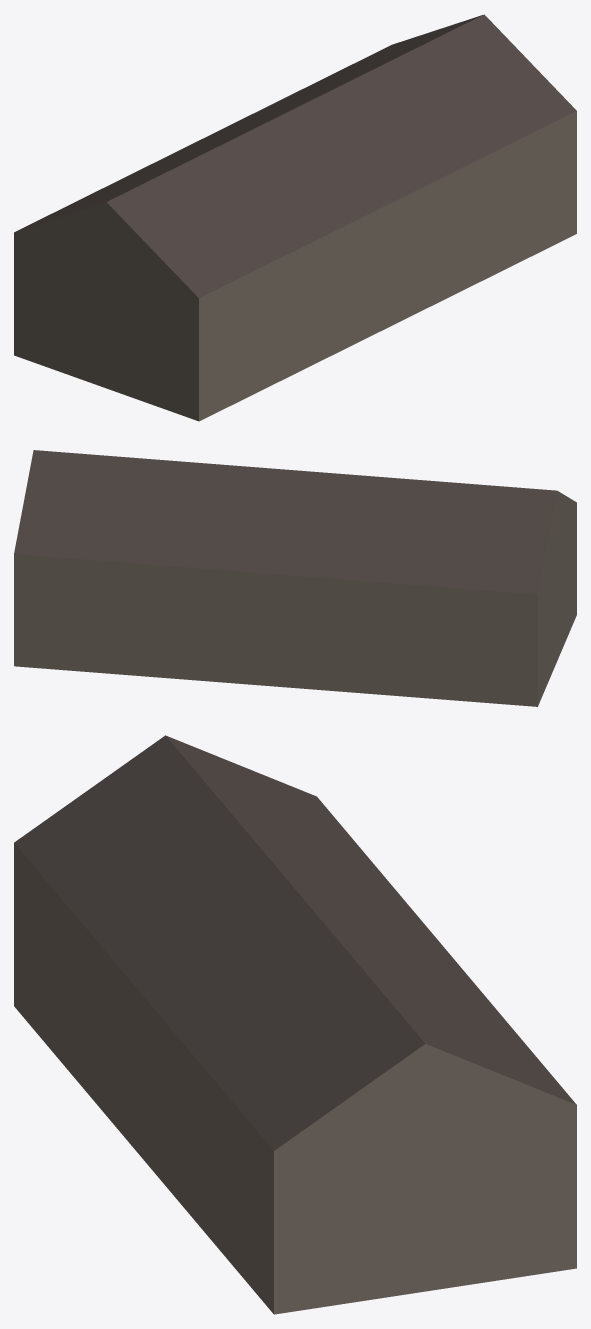
3 renders of one model, top to bottom at view 1: azimuth 30°, elevation 25°; view 2: azimuth 150°, elevation 25°; view 3: azimuth 270°, elevation 25°, orthographic. The views are drawn at different scales.
Parts seen in each view (by area): view 1: HP-w859457437; view 2: HP-w859457437; view 3: HP-w859457437.
Boxes of the visible parts, bbox=[...] form: HP-w859457437: bbox=[14, 14, 576, 421]; HP-w859457437: bbox=[14, 450, 576, 706]; HP-w859457437: bbox=[14, 735, 576, 1314].
Bounding box in the file's own units: 27.91 × 9.09 × 18.73.
